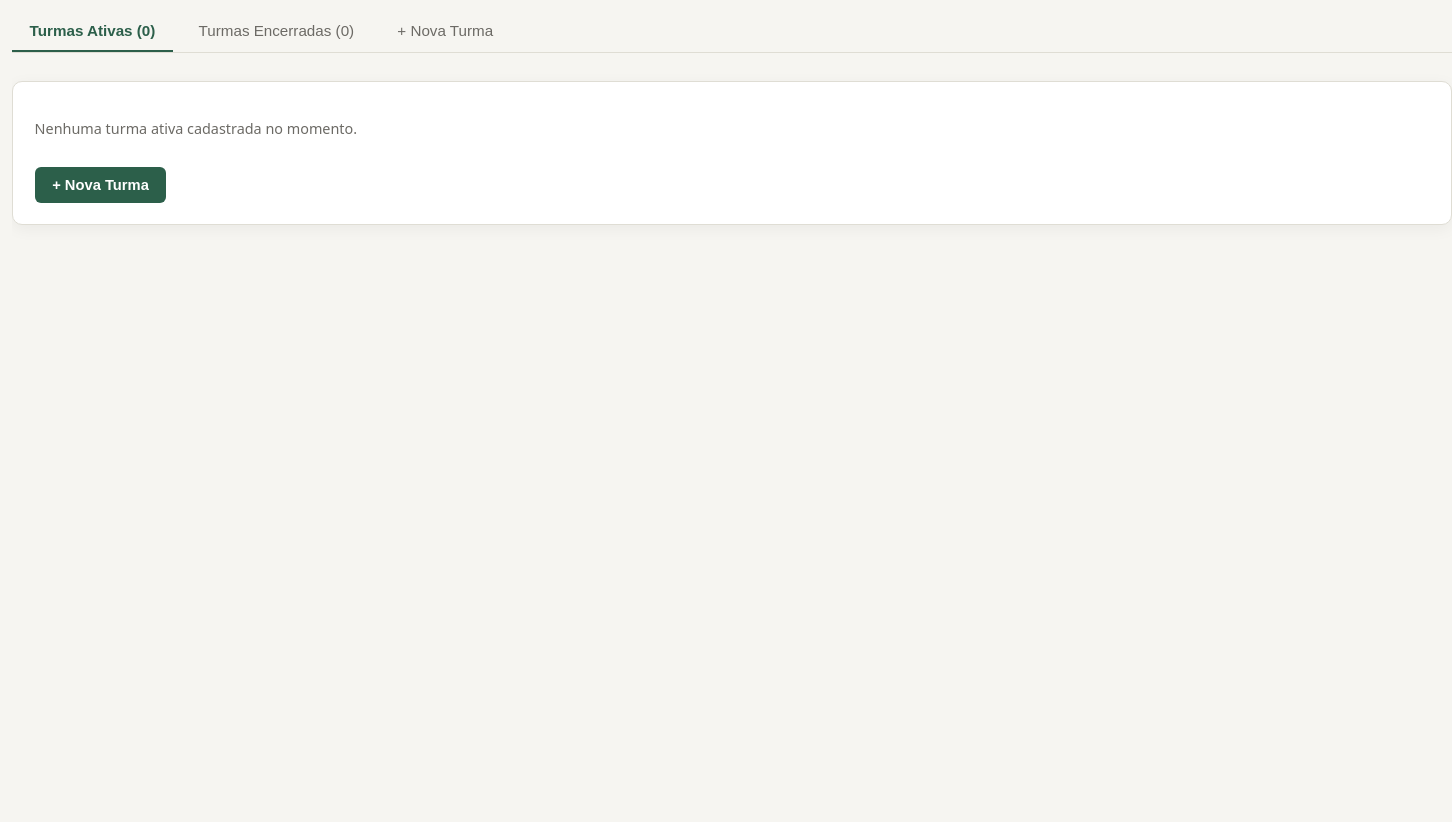
components/LoginView & TurmasDashboard › rejects form submission when no xlsx spreadsheet has been uploaded (XLSX-02)
What coordinates should you click on to do the following:
click the tab "+ Nova Turma"
I would click on:
 (445, 32)
Its box is [380,12,511,52].
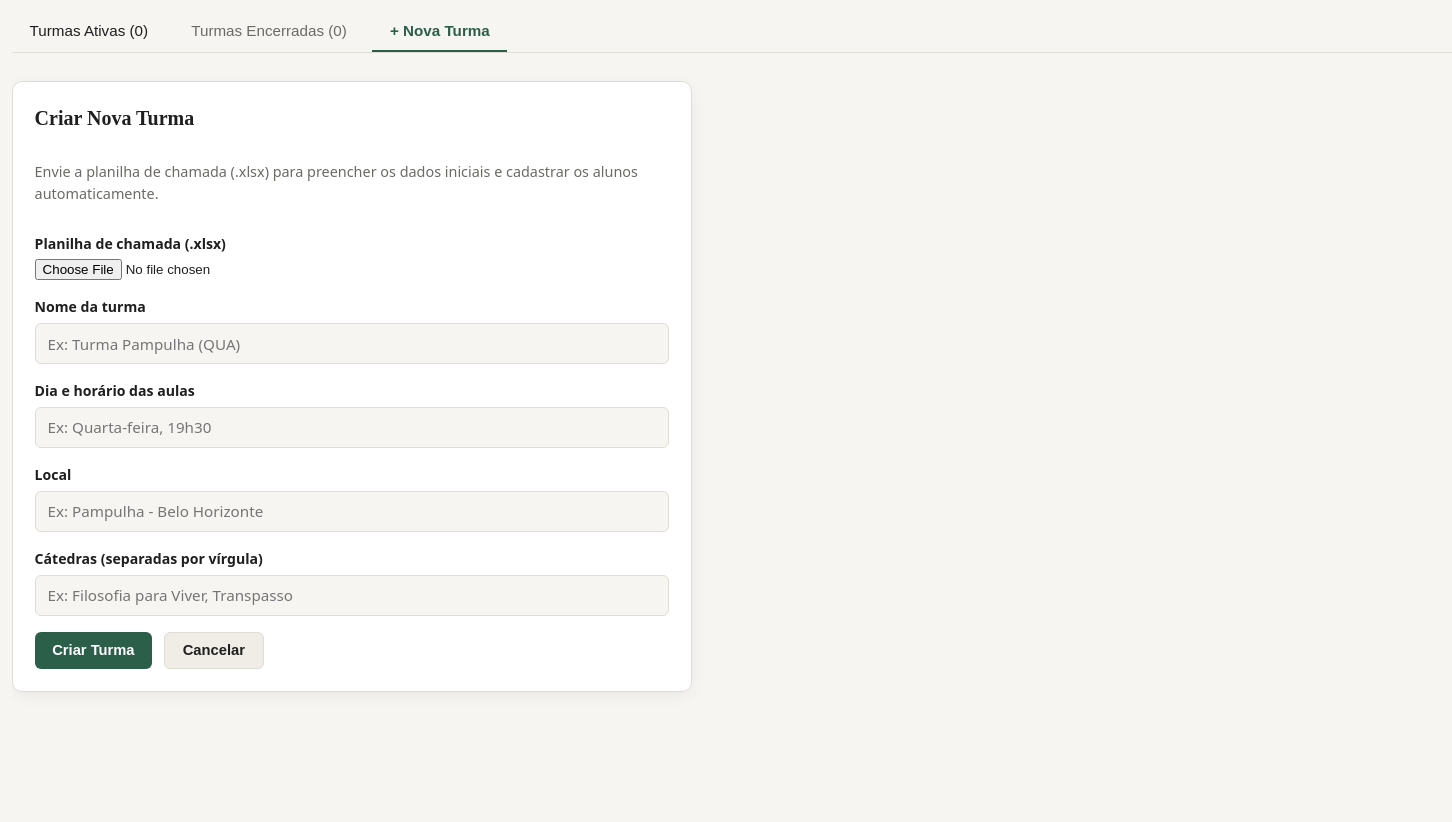
What coordinates should you click on to do the following:
click the button "Criar Turma"
I would click on:
 (93, 650)
Its box is [35,632,152,669].
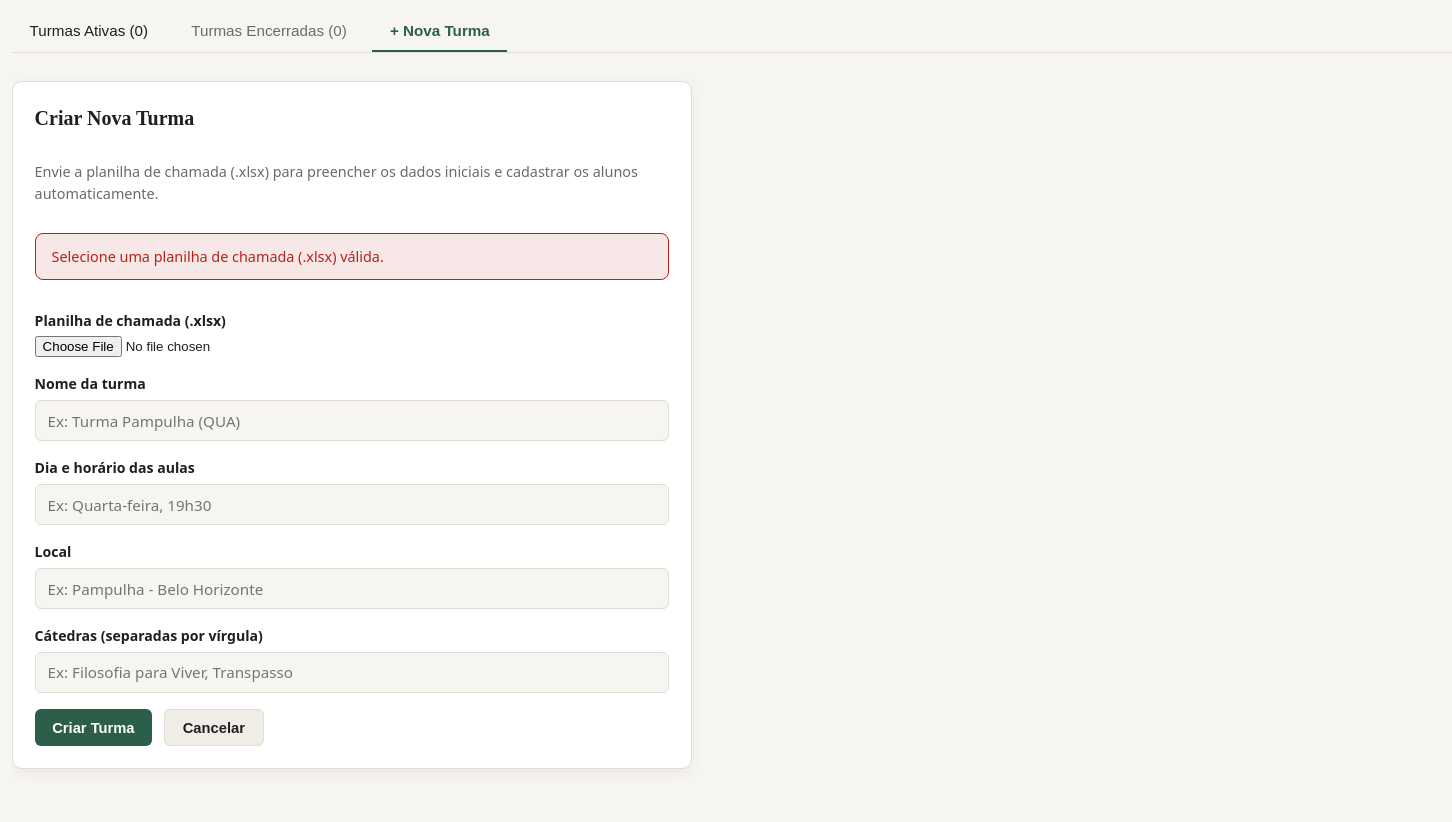
Expected: the message reads "Selecione uma planilha de chamada (.xlsx) válida.", [52,247,384,266]
